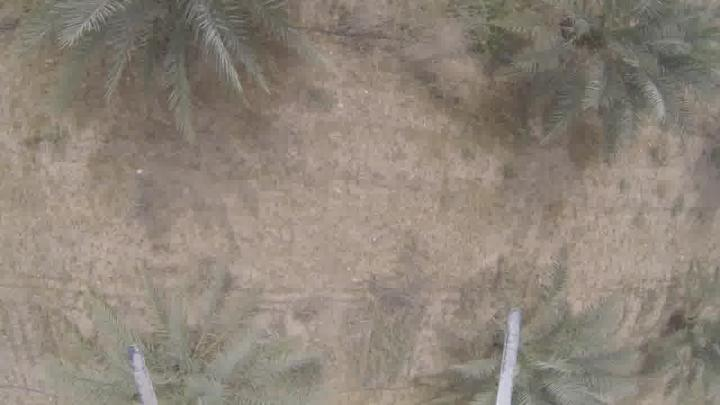Date-Palm-Crown: (520, 0, 692, 114), (72, 320, 286, 404), (50, 1, 253, 76), (474, 305, 606, 405), (666, 277, 720, 395)
